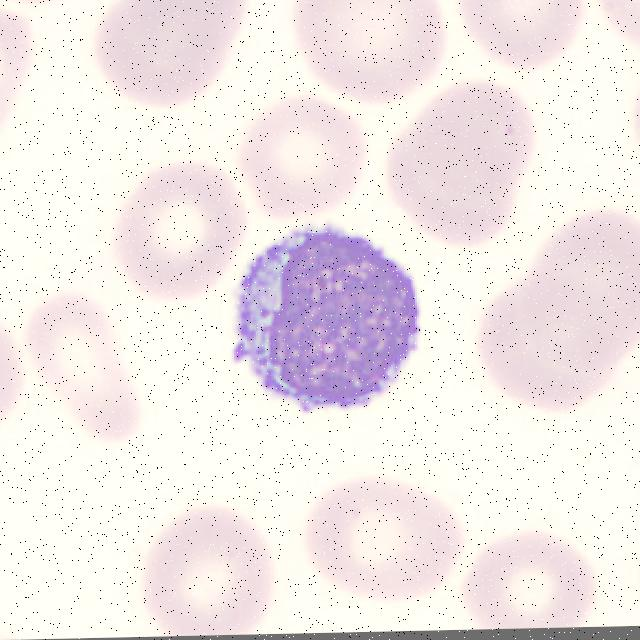lymphocyte: (236, 218, 434, 428)
rbc: (468, 273, 640, 419), (300, 473, 465, 618), (515, 195, 640, 376), (17, 280, 150, 443), (107, 152, 250, 300), (139, 490, 278, 637), (248, 97, 379, 233), (389, 136, 537, 255), (286, 0, 444, 111), (461, 525, 602, 630), (428, 77, 550, 196), (453, 0, 639, 78), (91, 13, 232, 104), (0, 277, 51, 433), (133, 0, 246, 63), (0, 0, 38, 148), (585, 0, 640, 75), (621, 81, 640, 177), (178, 119, 180, 128), (198, 308, 200, 315)
